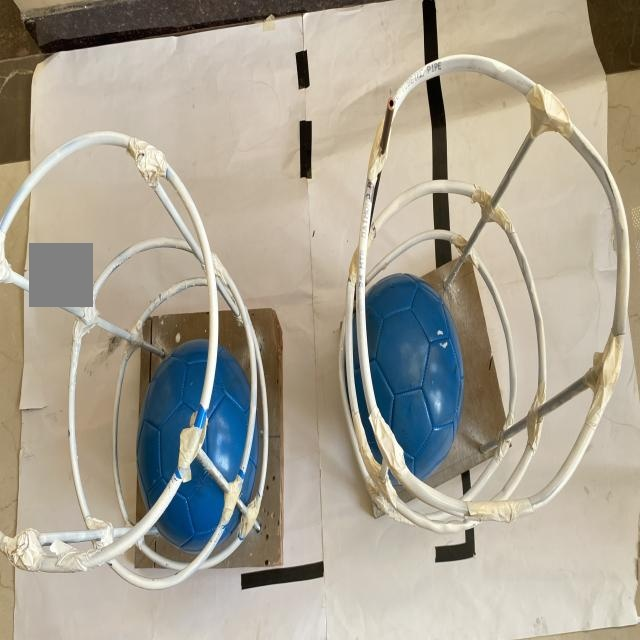blue_ball: (136, 340, 259, 550), (349, 276, 463, 475)
silo: (336, 54, 629, 532), (0, 129, 273, 591)
